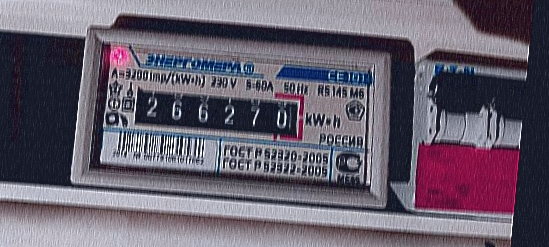0: (271, 106, 286, 127)
2: (141, 95, 158, 116), (218, 102, 234, 124)
6: (167, 97, 181, 120), (193, 101, 208, 122)
7: (244, 105, 258, 125)
screen: (121, 75, 310, 145)
